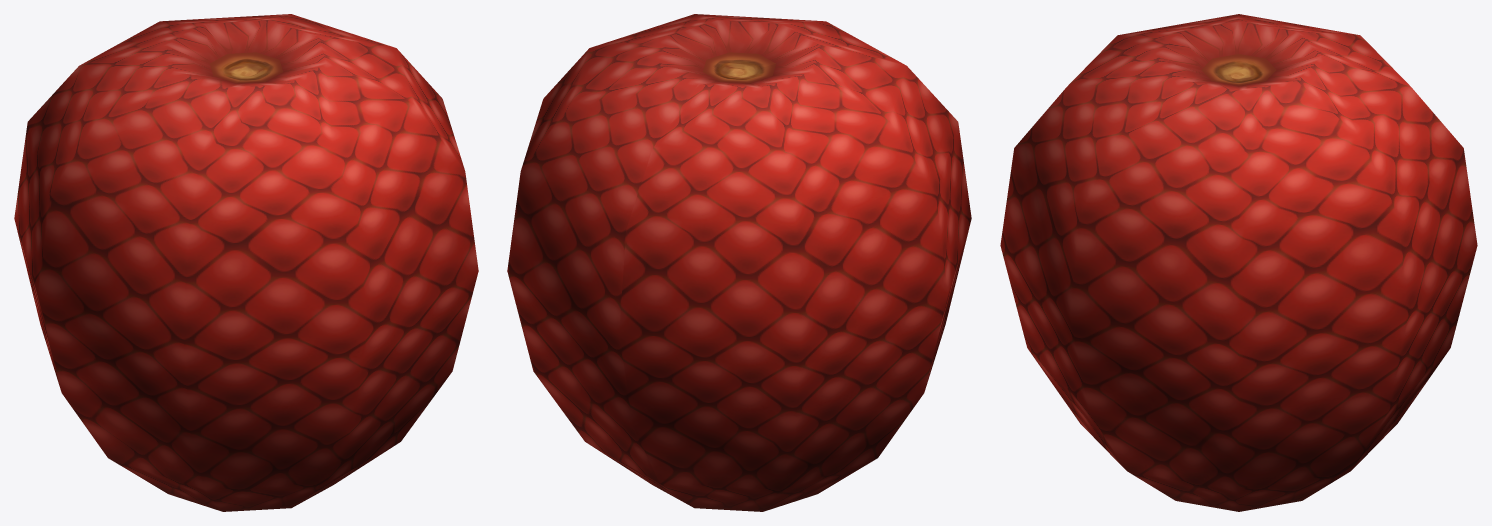
File: lecheeee.fbx
3 views of the same model, side by side, from view 1: azimuth 30°, elevation 25°; view 2: azimuth 150°, elevation 25°; view 3: azimuth 270°, elevation 25° (orthographic).
Parts seen in each view (by area): view 1: Lychee; view 2: Lychee; view 3: Lychee.
Boxes of the visible parts, x1,y1,x2,y2 form: Lychee: (14, 14, 478, 511); Lychee: (507, 14, 971, 511); Lychee: (1000, 14, 1477, 511).
Size of the model in its own units: 23.5 by 23.66 by 23.5.
Materials: 1 (1 with a texture image).
